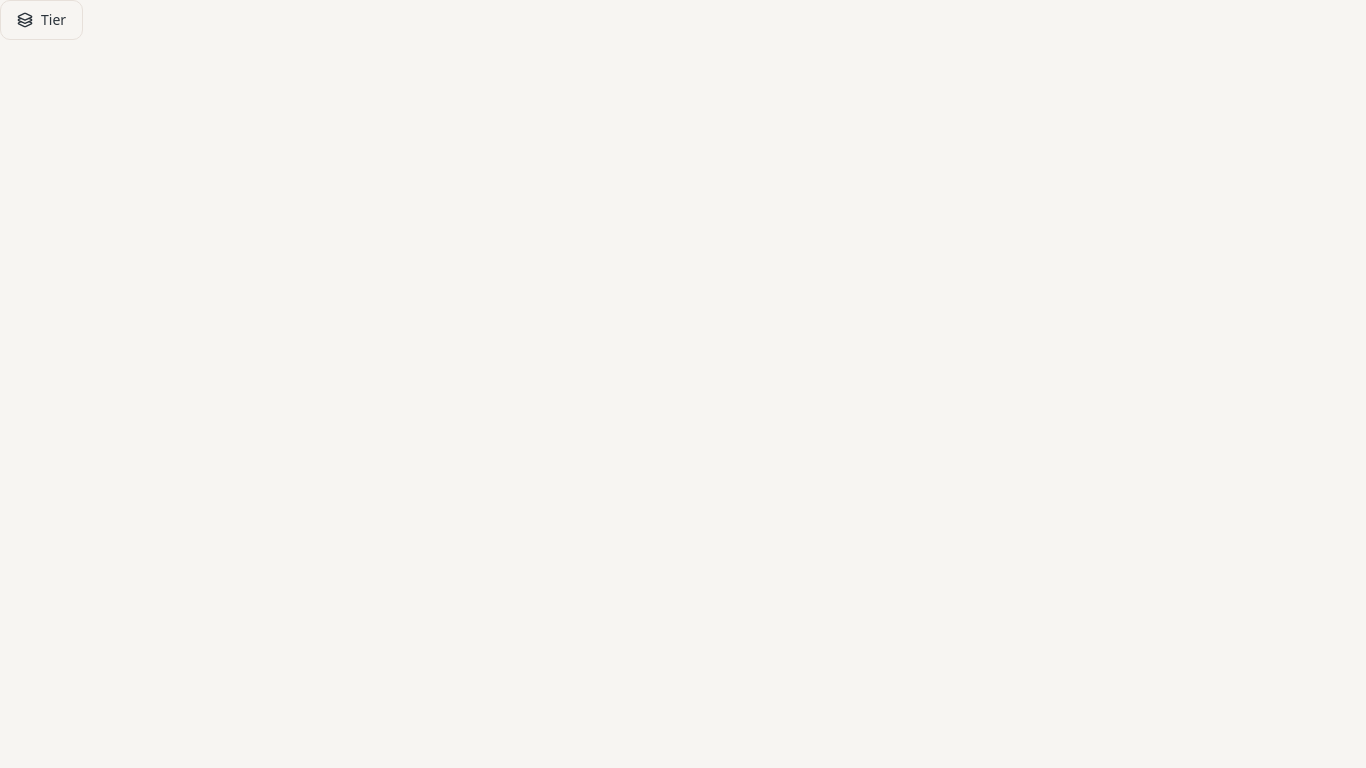
it: copies the active tier then opens the new tier for editing
Later steps or results of the test are not shown.
What coordinates should you click on to do the following:
click the button "Tier"
I would click on:
 (42, 20)
Its box is [0,0,83,40].
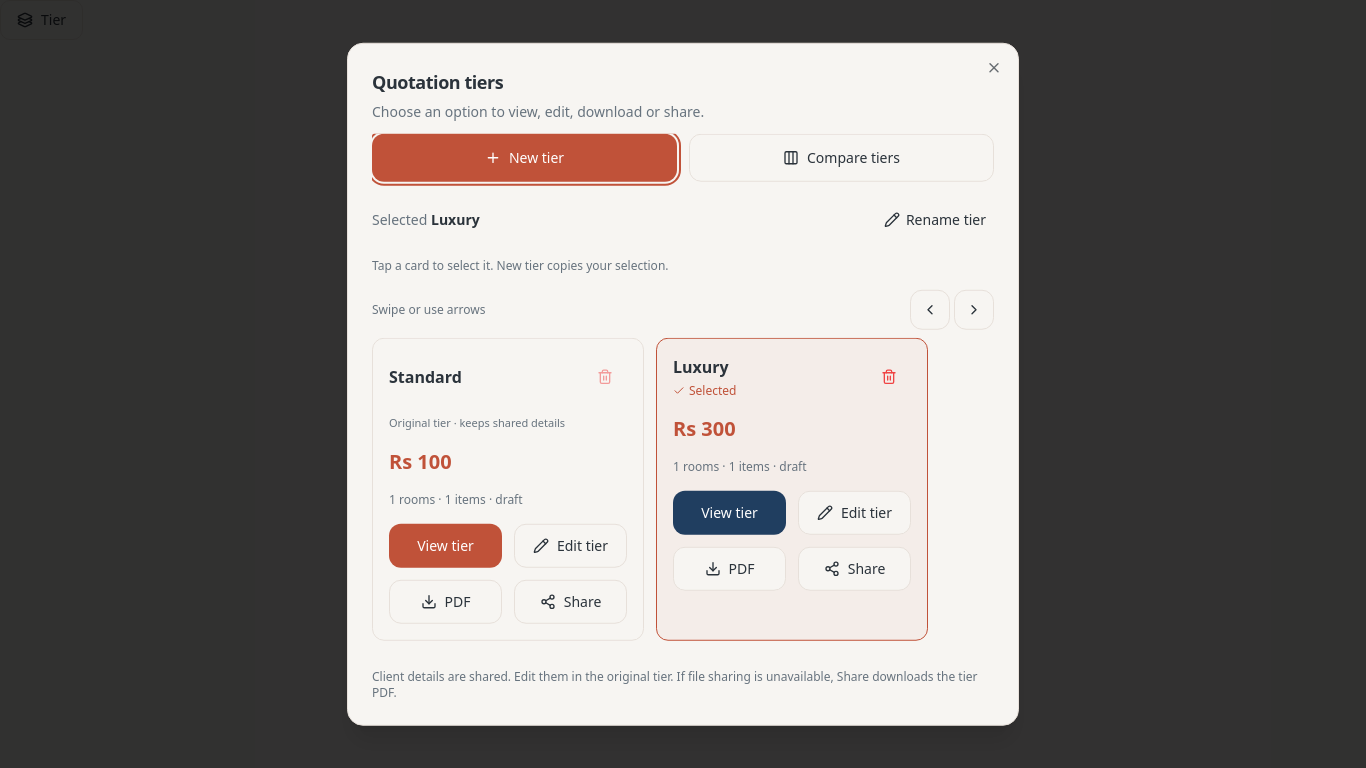
What coordinates should you click on to do the following:
click the button with aria-label "Create another tier"
I would click on:
 (524, 158)
Its box is [372,134,677,182].
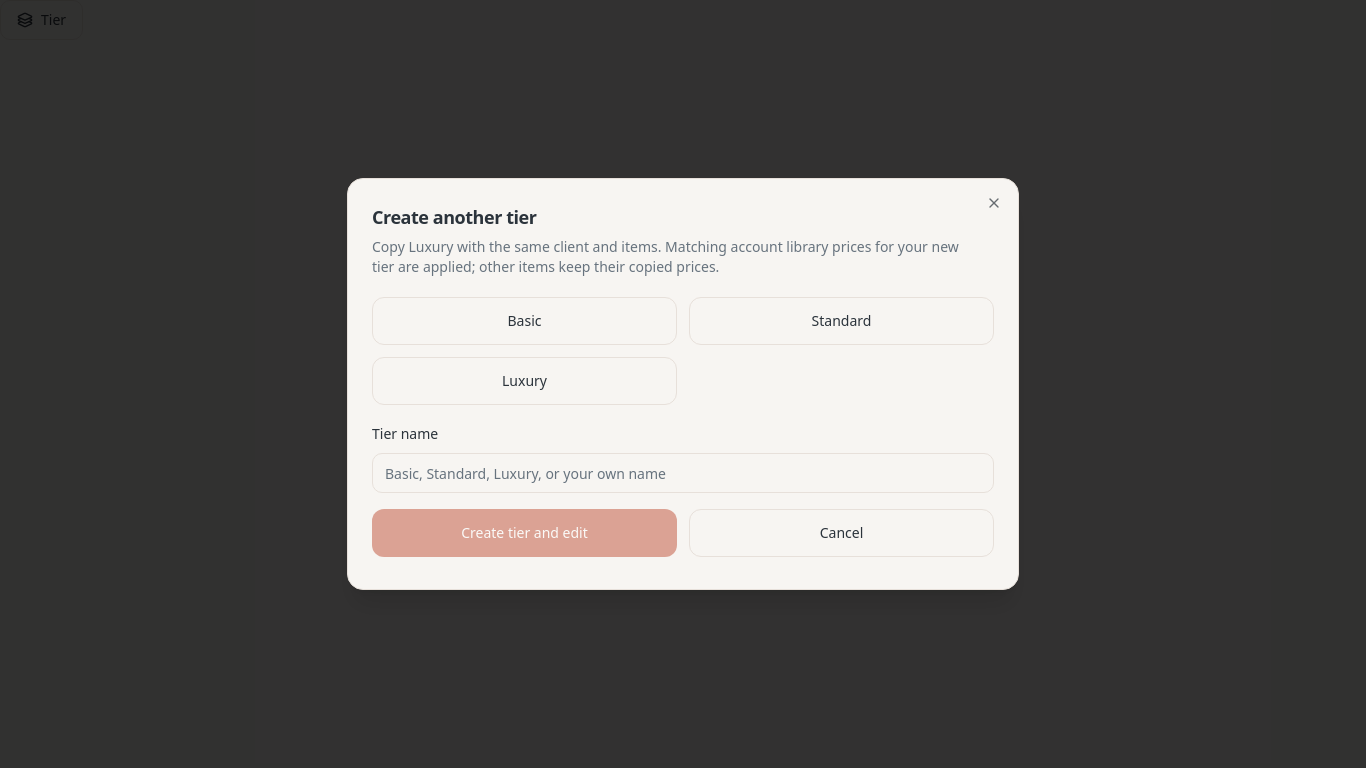
Now the text "Copy Luxury with the same client" is shown, box [372,237,959,276]
